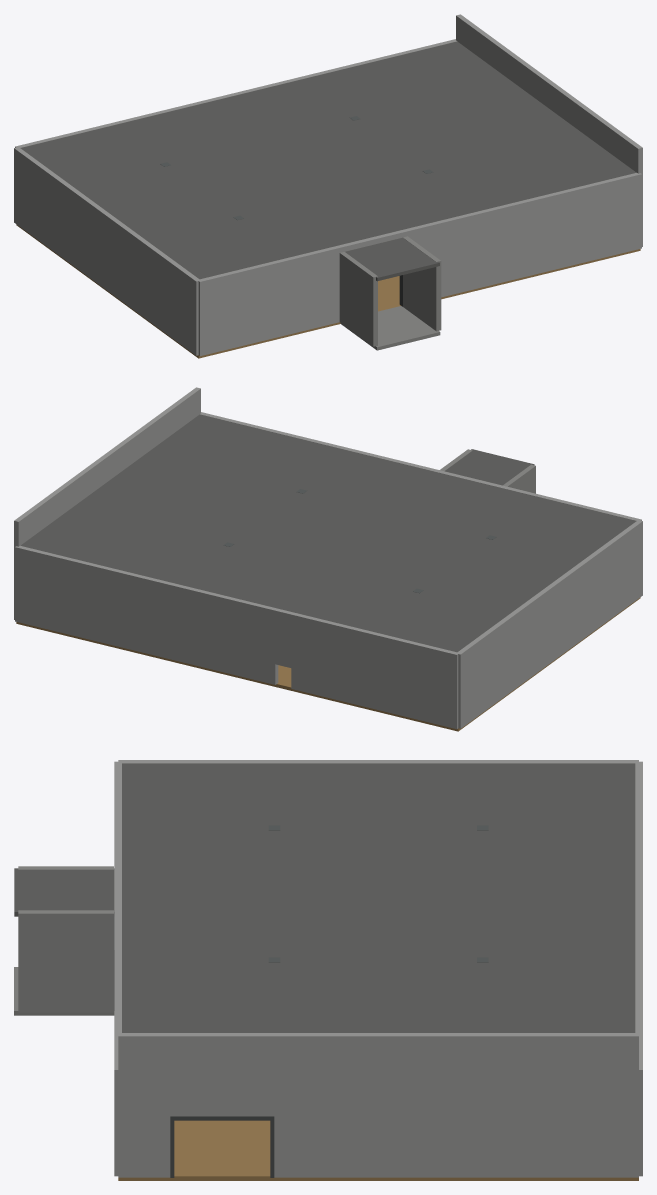
The model's file is blockout_control.glb.
3 renders of one model, top to bottom at view 1: azimuth 30°, elevation 25°; view 2: azimuth 150°, elevation 25°; view 3: azimuth 270°, elevation 25°, orthographic. The views are drawn at different scales.
Visible parts, largest first — view 1: SM_L1_Zone04_AccessControl_Ceiling, SM_L1_Zone04_AccessControl_Wall_S_2, SM_L1_Zone04_AccessControl_Wall_W_0, SM_L1_Zone04_AccessControl_Wall_S_0, SM_L1_Zone04_AccessControl_Wall_E_2, SM_L1_Conn_AccessConnector_Wall_W_0, SM_L1_Conn_AccessConnector_Ceiling, SM_L1_Conn_AccessConnector_Wall_E_0, SM_L1_Zone04_AccessControl_Floor, SM_L1_Conn_AccessConnector_Floor, SM_L1_Zone04_AccessControl_Wall_E_1, SM_L1_Zone04_AccessControl_Wall_N_2 (+3 smaller); view 2: SM_L1_Zone04_AccessControl_Ceiling, SM_L1_Zone04_AccessControl_Wall_N_2, SM_L1_Zone04_AccessControl_Wall_W_0, SM_L1_Zone04_AccessControl_Wall_N_0, SM_L1_Zone04_AccessControl_Wall_E_2, SM_L1_Zone04_AccessControl_Floor, SM_L1_Conn_AccessConnector_Ceiling, SM_L1_Zone04_AccessControl_Wall_E_1, SM_L1_Zone04_AccessControl_Wall_N_1, SM_L1_Zone04_AccessControl_Wall_S_2, SM_L1_Zone04_AccessControl_Wall_E_0, SM_L1_Conn_AccessConnector_Wall_W_0 (+1 smaller); view 3: SM_L1_Zone04_AccessControl_Ceiling, SM_L1_Zone04_AccessControl_Wall_E_2, SM_L1_Conn_AccessConnector_Wall_E_0, SM_L1_Zone04_AccessControl_Wall_E_1, SM_L1_Zone04_AccessControl_Wall_E_0, SM_L1_Zone04_AccessControl_Floor, SM_L1_Conn_AccessConnector_Ceiling, SM_L1_Zone04_AccessControl_Wall_W_0, SM_L1_Zone04_AccessControl_Wall_S_2, SM_L1_Zone04_AccessControl_Wall_N_2, SM_L1_Zone04_AccessControl_Wall_N_0, SM_L1_Zone04_AccessControl_Wall_S_0 (+1 smaller).
Part boxes in pixels (x1,y1,x2,y2): SM_L1_Zone04_AccessControl_Ceiling: (20,41,636,279); SM_L1_Zone04_AccessControl_Wall_S_2: (403,172,641,297); SM_L1_Zone04_AccessControl_Wall_W_0: (14,147,200,355); SM_L1_Zone04_AccessControl_Wall_S_0: (198,245,341,356); SM_L1_Zone04_AccessControl_Wall_E_2: (456,14,587,133); SM_L1_Conn_AccessConnector_Wall_W_0: (339,252,377,346); SM_L1_Conn_AccessConnector_Ceiling: (345,237,439,281); SM_L1_Conn_AccessConnector_Wall_E_0: (403,236,441,331); SM_L1_Zone04_AccessControl_Floor: (16,224,640,358); SM_L1_Conn_AccessConnector_Floor: (340,306,440,350); SM_L1_Zone04_AccessControl_Wall_E_1: (583,108,624,159); SM_L1_Zone04_AccessControl_Wall_N_2: (197,39,457,104); SM_L1_Zone04_AccessControl_Ceiling: (20,414,636,652); SM_L1_Zone04_AccessControl_Wall_N_2: (15,545,278,684); SM_L1_Zone04_AccessControl_Wall_W_0: (456,520,642,728); SM_L1_Zone04_AccessControl_Wall_N_0: (291,612,458,729); SM_L1_Zone04_AccessControl_Wall_E_2: (14,427,146,619); SM_L1_Zone04_AccessControl_Floor: (16,597,640,731); SM_L1_Conn_AccessConnector_Ceiling: (445,449,534,485); SM_L1_Zone04_AccessControl_Wall_E_1: (142,400,182,452); SM_L1_Zone04_AccessControl_Wall_N_1: (275,608,293,667); SM_L1_Zone04_AccessControl_Wall_S_2: (199,412,436,471); SM_L1_Zone04_AccessControl_Wall_E_0: (178,387,200,426); SM_L1_Conn_AccessConnector_Wall_W_0: (503,464,535,493); SM_L1_Zone04_AccessControl_Ceiling: (122,763,635,1032); SM_L1_Zone04_AccessControl_Wall_E_2: (274,1033,638,1177); SM_L1_Conn_AccessConnector_Wall_E_0: (18,910,113,1012); SM_L1_Zone04_AccessControl_Wall_E_1: (170,1033,274,1116); SM_L1_Zone04_AccessControl_Wall_E_0: (118,1033,170,1177); SM_L1_Zone04_AccessControl_Floor: (118,1120,638,1180); SM_L1_Conn_AccessConnector_Ceiling: (14,868,114,916); SM_L1_Zone04_AccessControl_Wall_W_0: (118,760,638,763); SM_L1_Zone04_AccessControl_Wall_S_2: (114,905,121,1176); SM_L1_Zone04_AccessControl_Wall_N_2: (635,888,642,1176); SM_L1_Zone04_AccessControl_Wall_N_0: (635,761,642,877); SM_L1_Zone04_AccessControl_Wall_S_0: (114,761,121,860).
Bounding box in the file's own units: 28.33 × 6.2 × 24.15.
